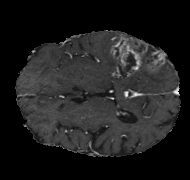Edema: (102, 33, 167, 85)
EnhancingTumors: (110, 36, 165, 75)
Necrosis: (112, 40, 162, 77)
